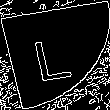L_N: (31, 28, 79, 82)
